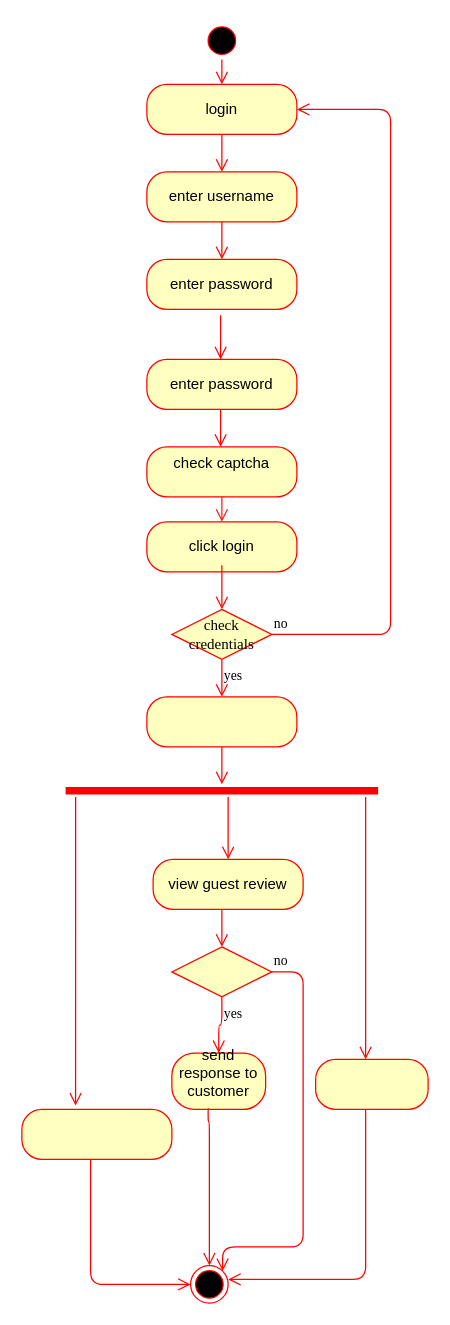
The diagram is 450 pixels wide and 1325 high, and some of its shapes have lost their labels. Each missing label, with the centre of its shape:
assign tasks: [371,1083]
display dashboard: [221,721]
reply reviews: [221,971]
view detailed booking: [96,1133]
